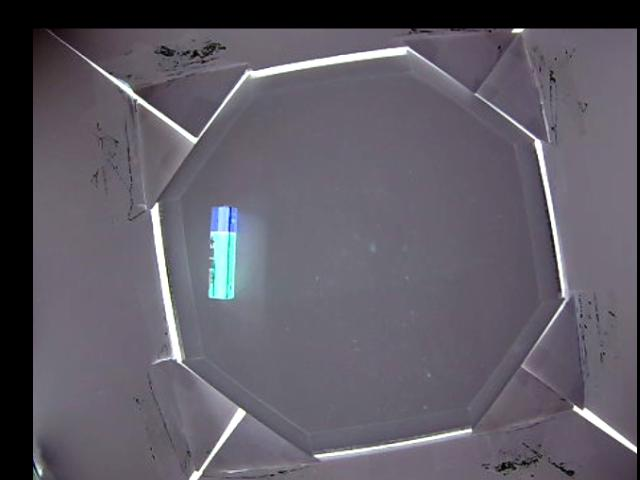Battery: (208, 204, 237, 300)
